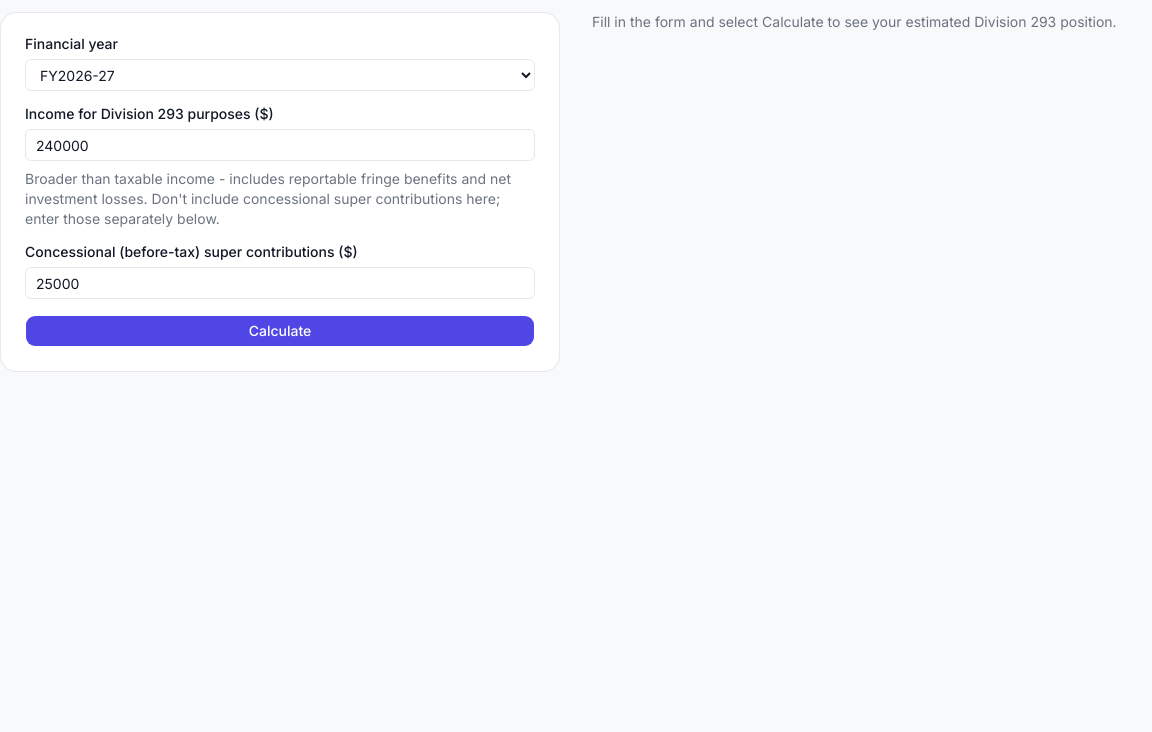
Div293Calculator › integration: switching the FY selector to FY2025-26 swaps the config, badge, and results
Replace the text in the number field labelled "Income for Division 293 purposes ($)" with "300000" at (280, 145), box [25,129,535,161]
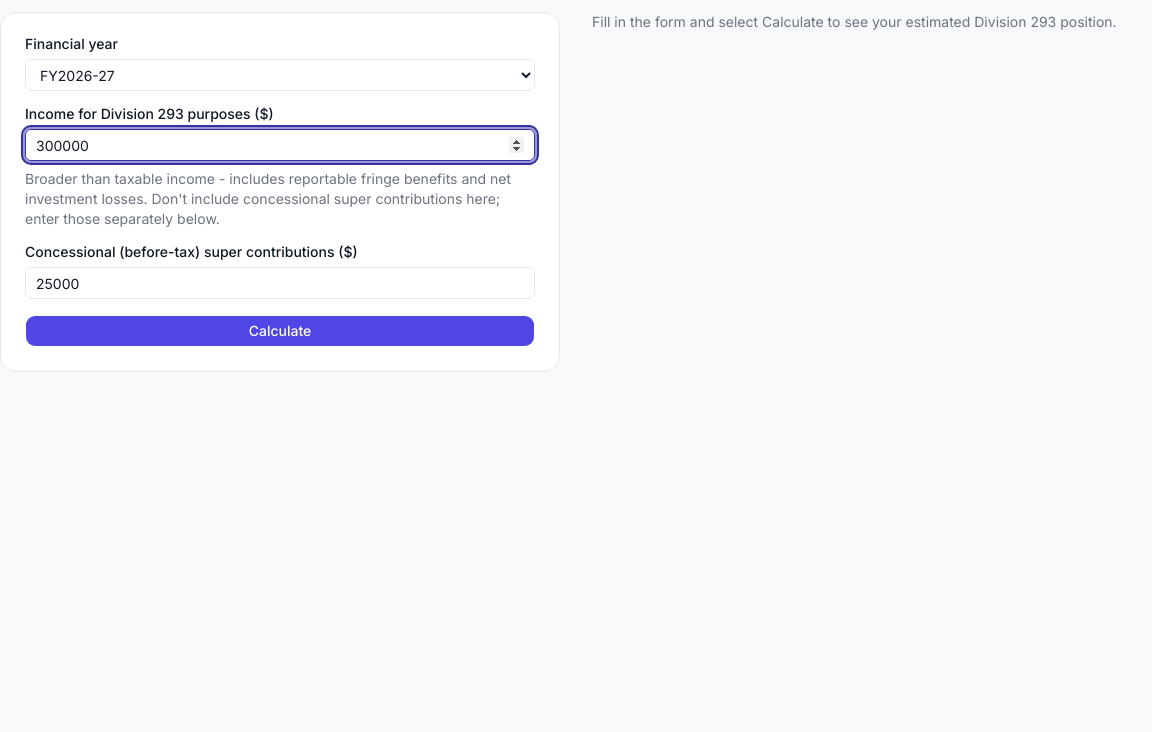
Replace the text in the number field labelled "Concessional (before-tax) super contributions ($)" with "33000" at (280, 283), box [25,267,535,299]
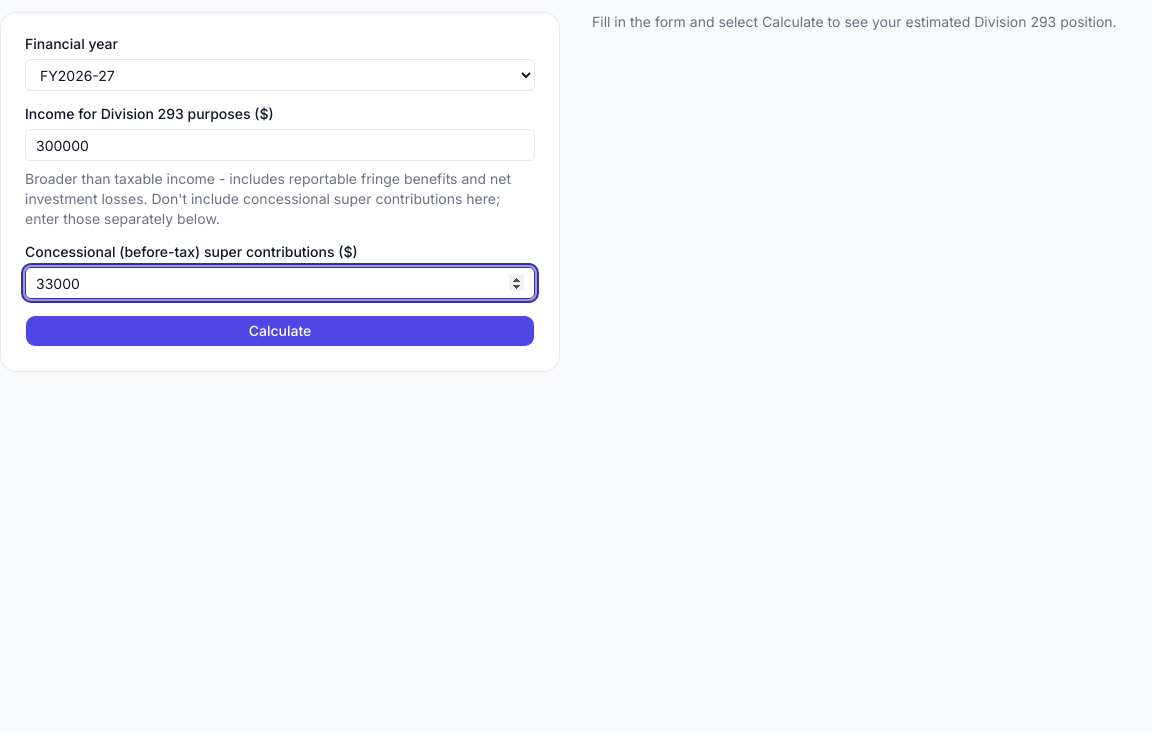
Click the button "Calculate" at (280, 331), box [25,315,535,347]
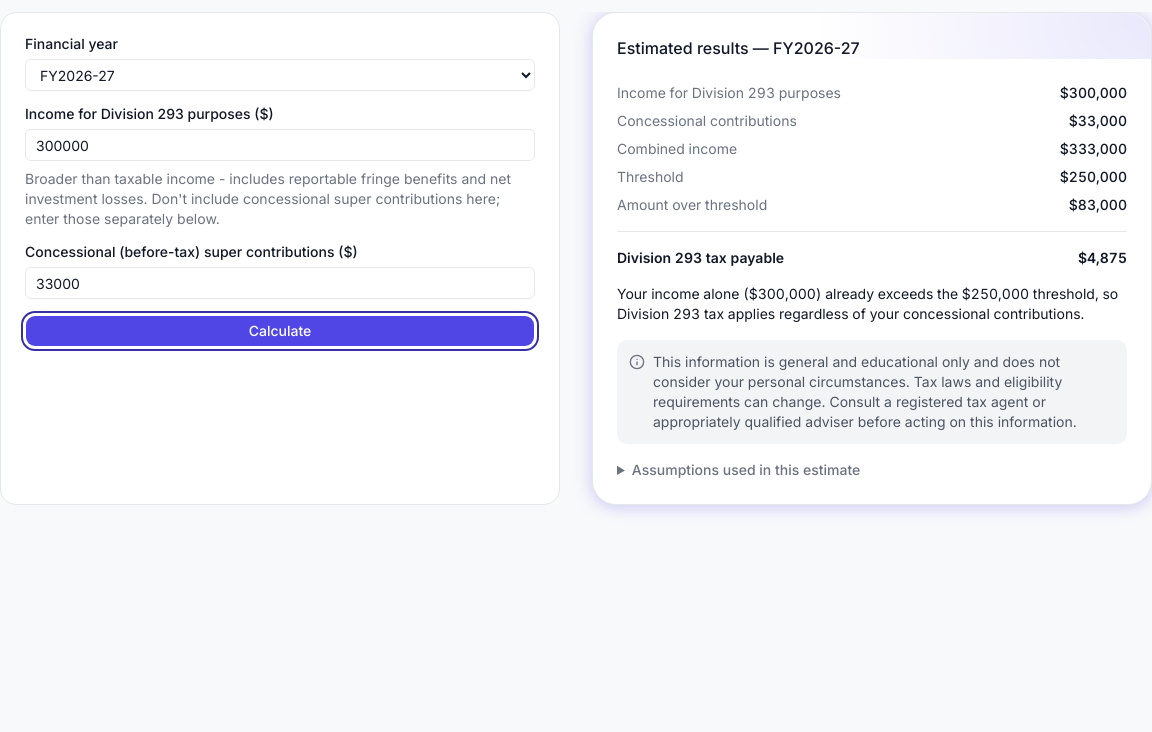
Now the text "$4,875" is shown, box [1078,249,1127,266]
Now the text "Estimated results — FY2026-27" is shown, box [617,38,860,58]
Select "FY2025-26" in the dropdown labelled "Financial year" at (280, 75), box [25,59,535,91]
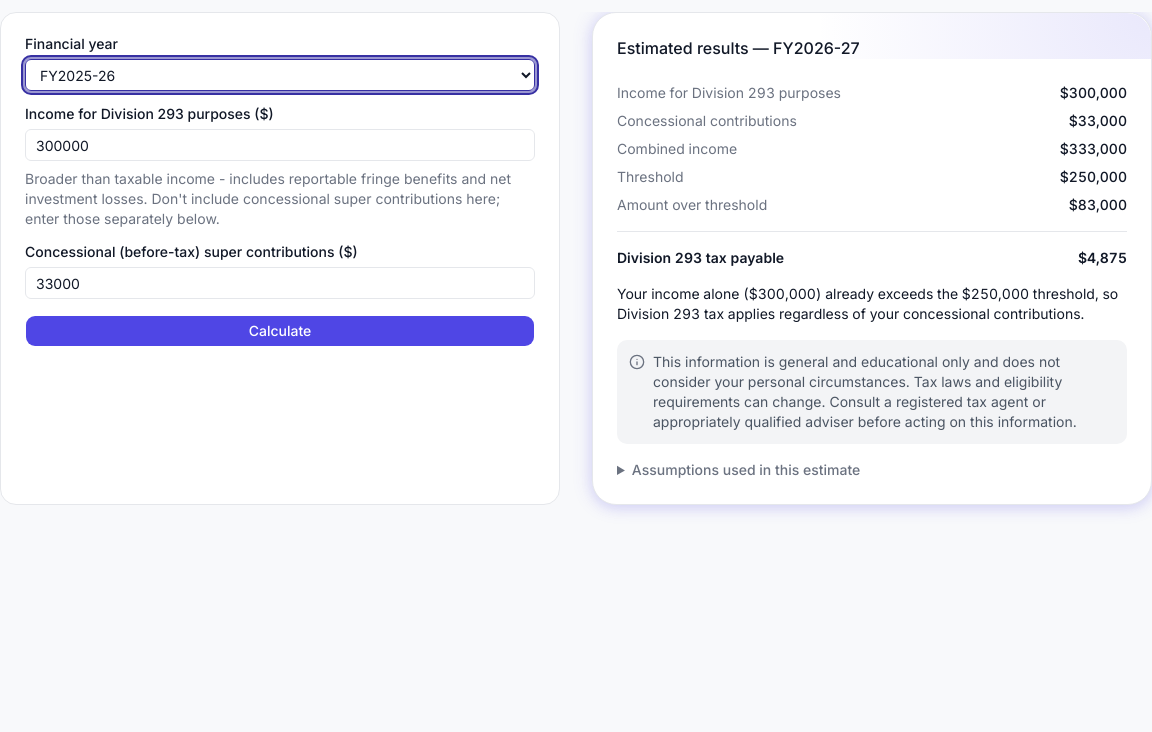
Click the button "Calculate" at (280, 331), box [25,315,535,347]
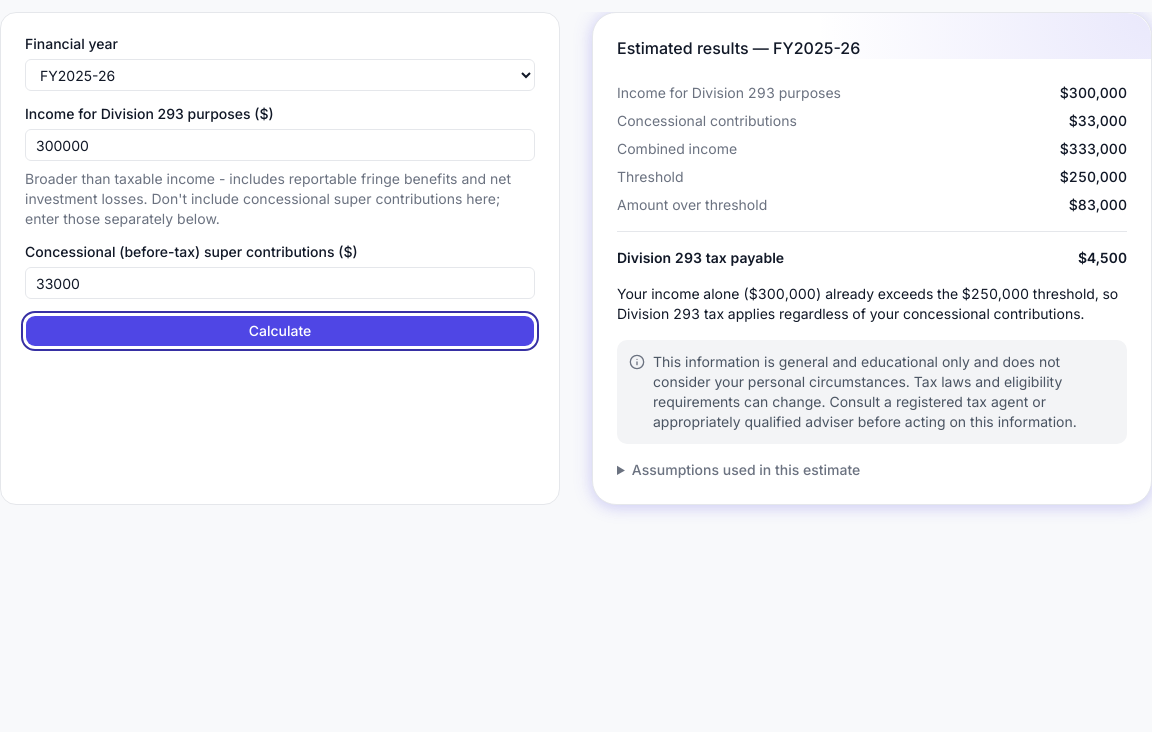
Now the text "$4,500" is shown, box [1078,249,1127,266]
Now the text "Estimated results — FY2025-26" is shown, box [617,38,860,58]
Now the text "$4,875" is gone
